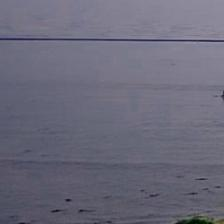surfer: (221, 90, 223, 98)
